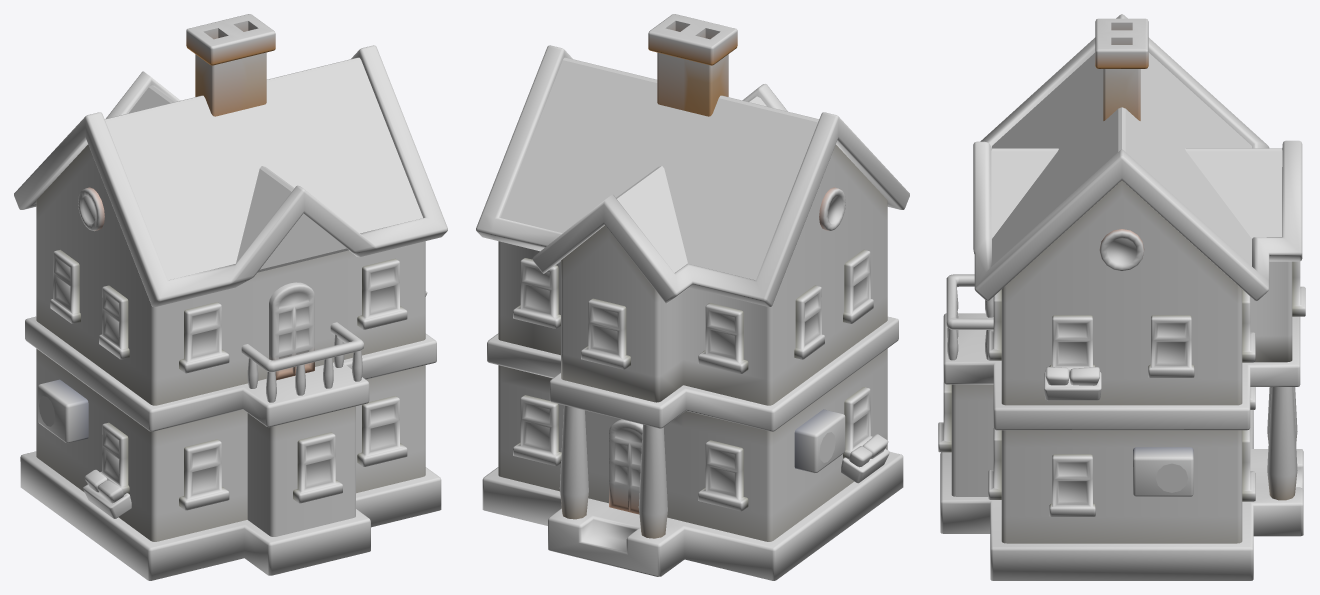
Rendered from NF_Bld_House 19.fbx.
The picture shows the model from 3 angles, left to right: view 1: azimuth 30°, elevation 25°; view 2: azimuth 150°, elevation 25°; view 3: azimuth 270°, elevation 25°; orthographic projection.
Visible parts, largest first — view 1: House_19.001; view 2: House_19.001; view 3: House_19.001.
Part boxes in pixels (<box>): House_19.001: <box>14,14,447,580</box>; House_19.001: <box>476,14,909,580</box>; House_19.001: <box>938,14,1305,580</box>.
Bounding box in the file's own units: 9.3 × 13.06 × 9.16.
